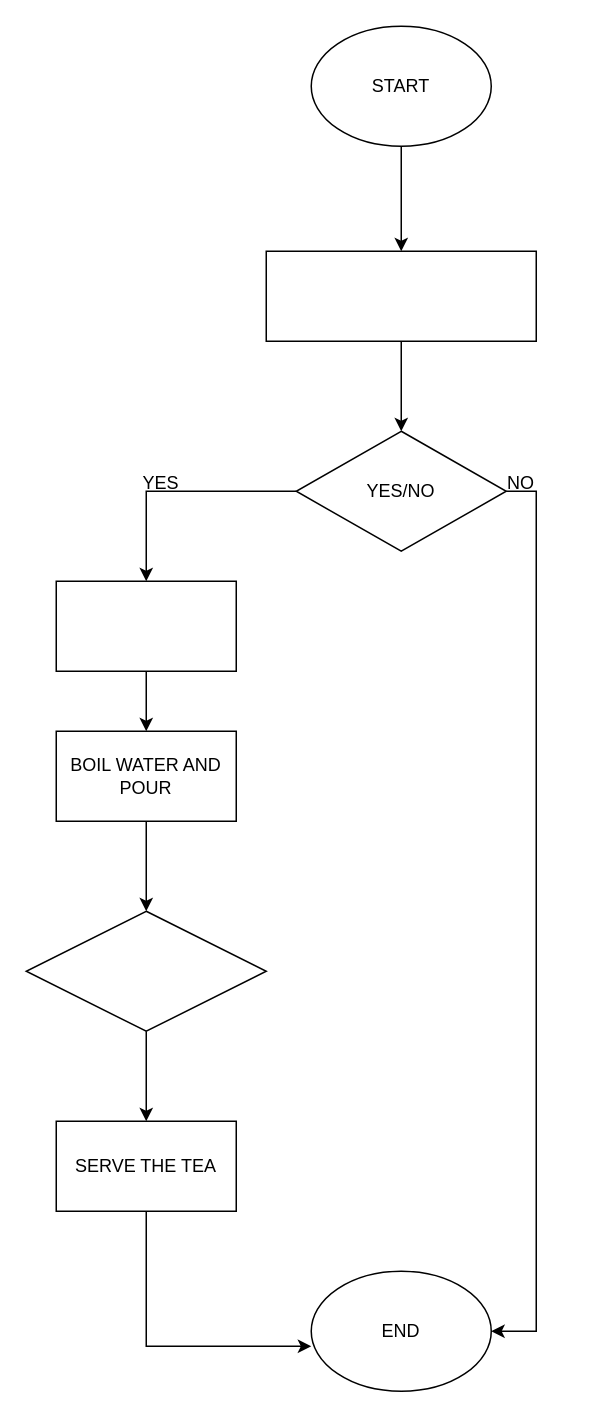
The diagram is 593 pixels wide and 1418 high, and some of its shapes have lost their labels. The centre of each missing label's shape, as x and y in pixels:
"ASK FOR TEA PREFERENCE" goes at pixel 145 625.
"MILK OR SUGAR" goes at pixel 145 970.
"WOULD YOU LIKE A CUP OF TEA" goes at pixel 400 295.
